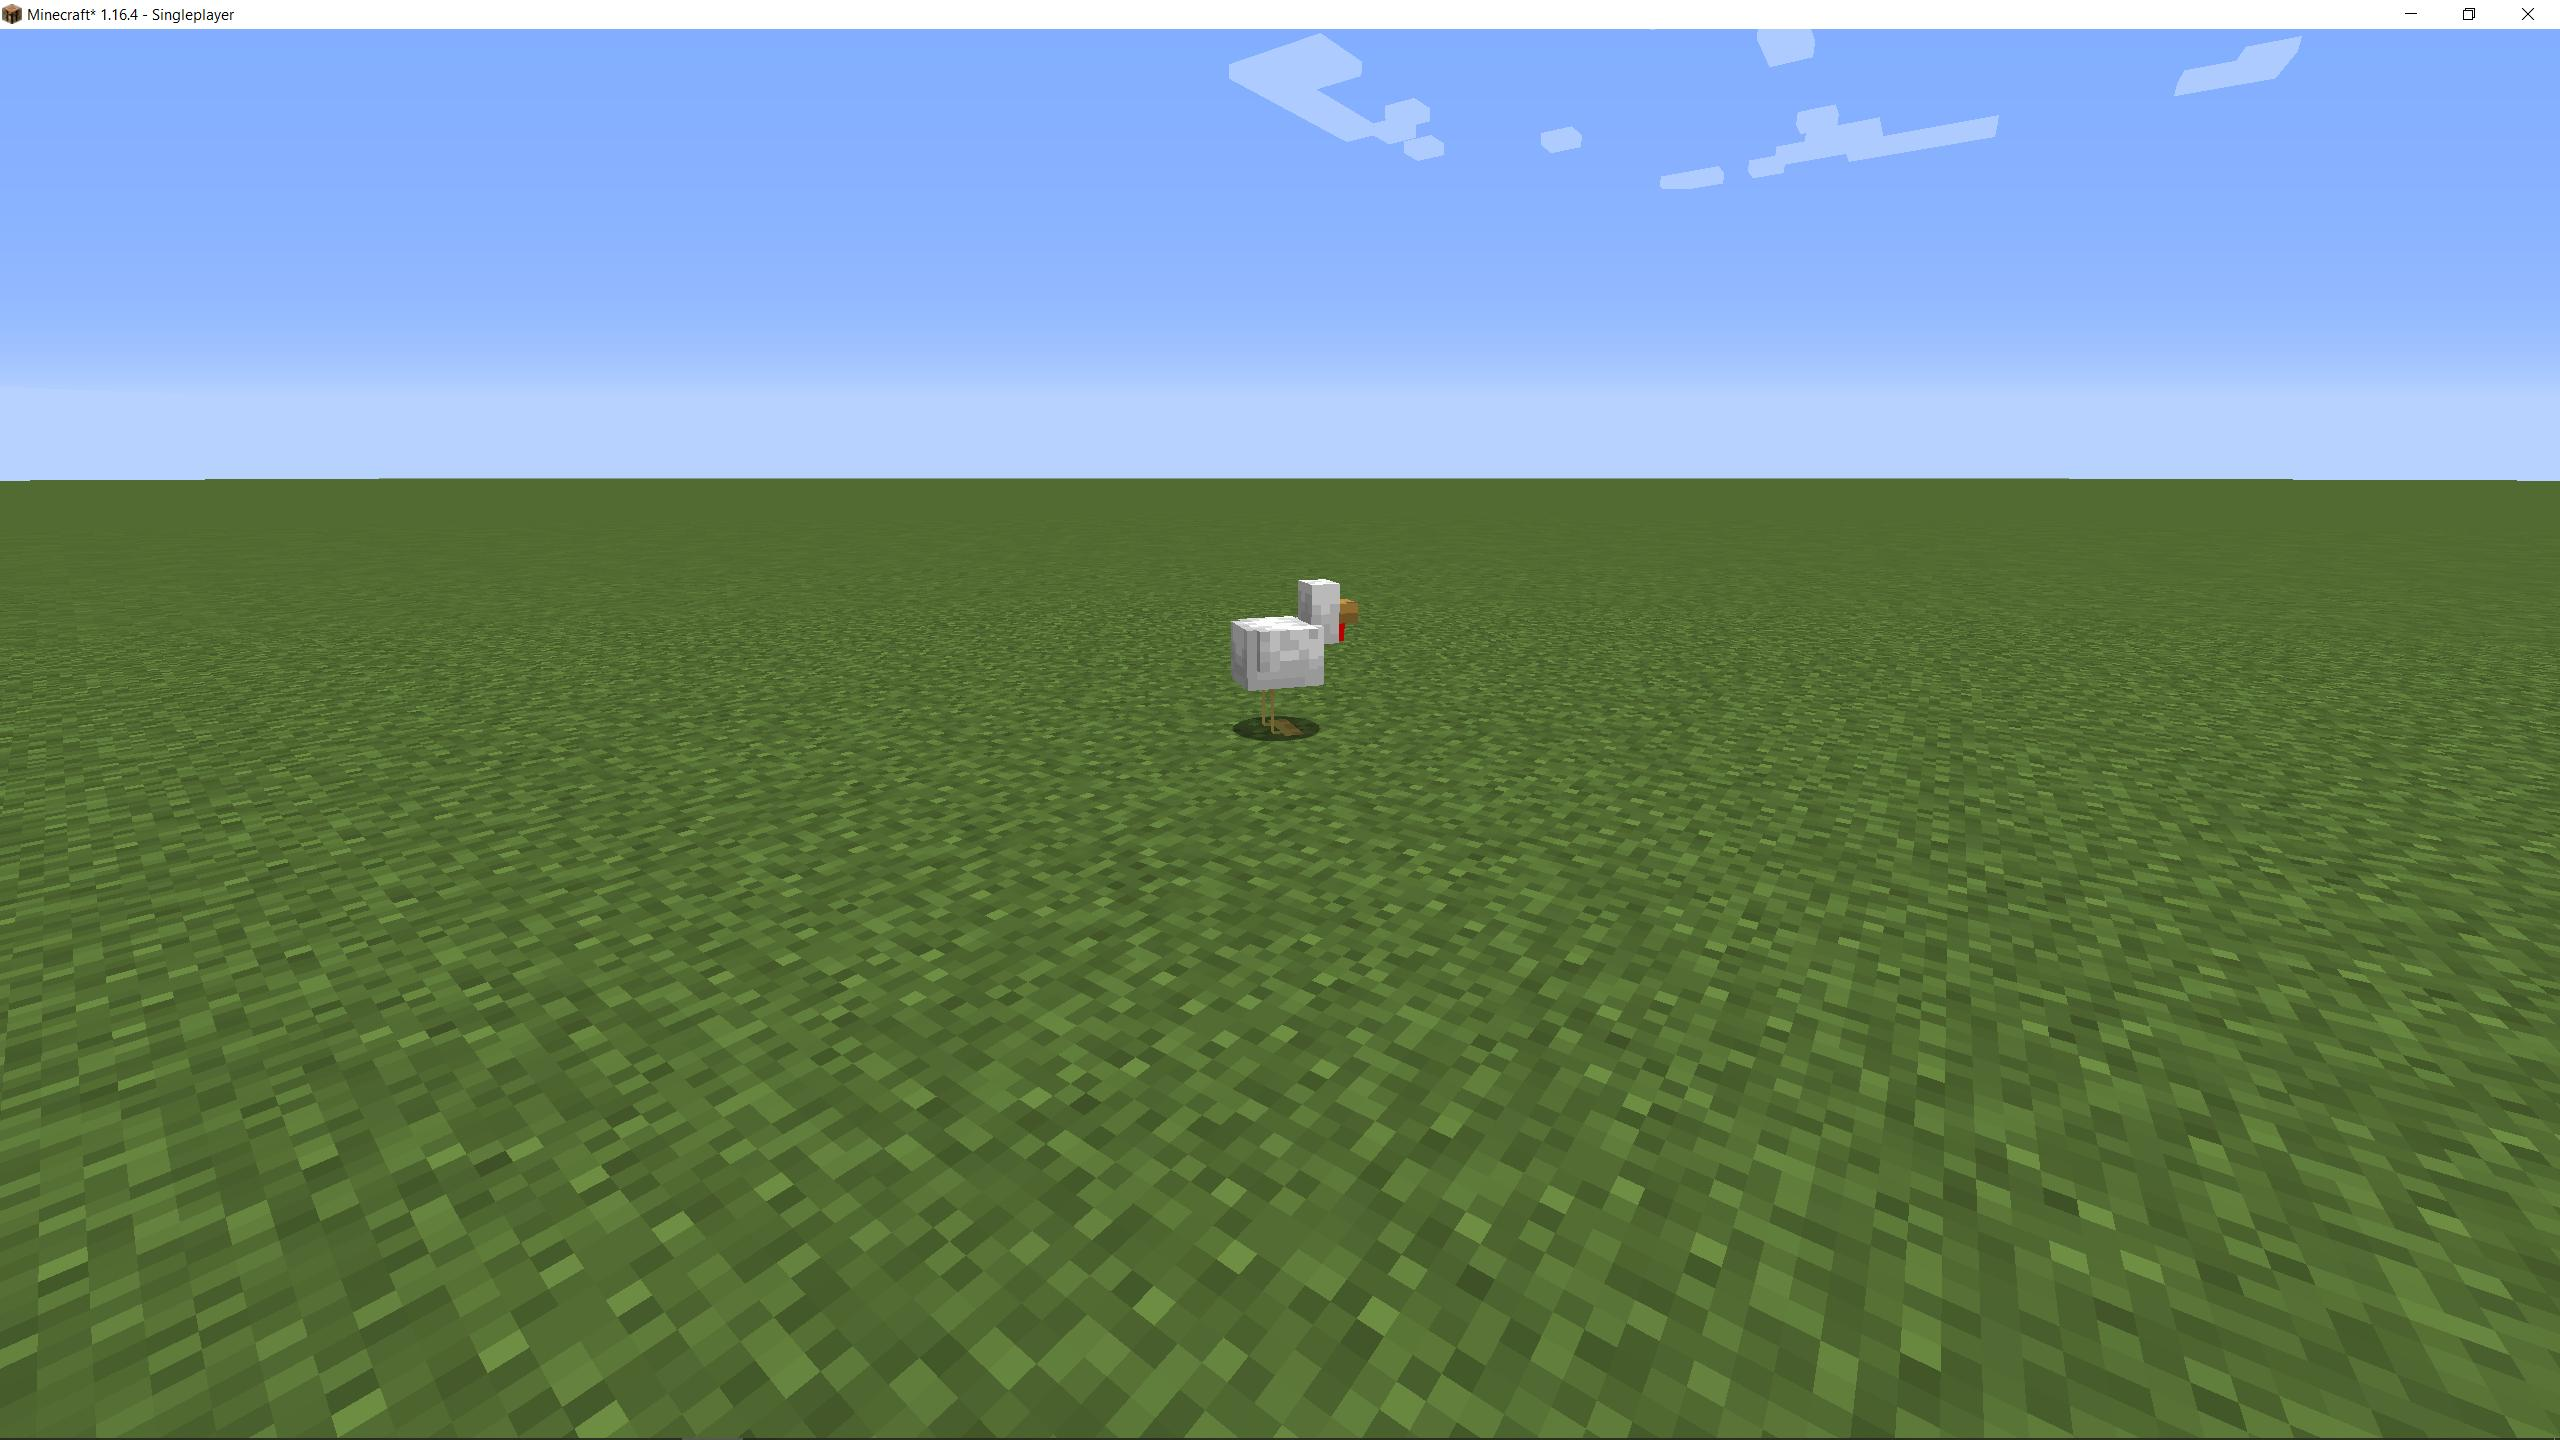chicken: (1231, 577, 1357, 744)
